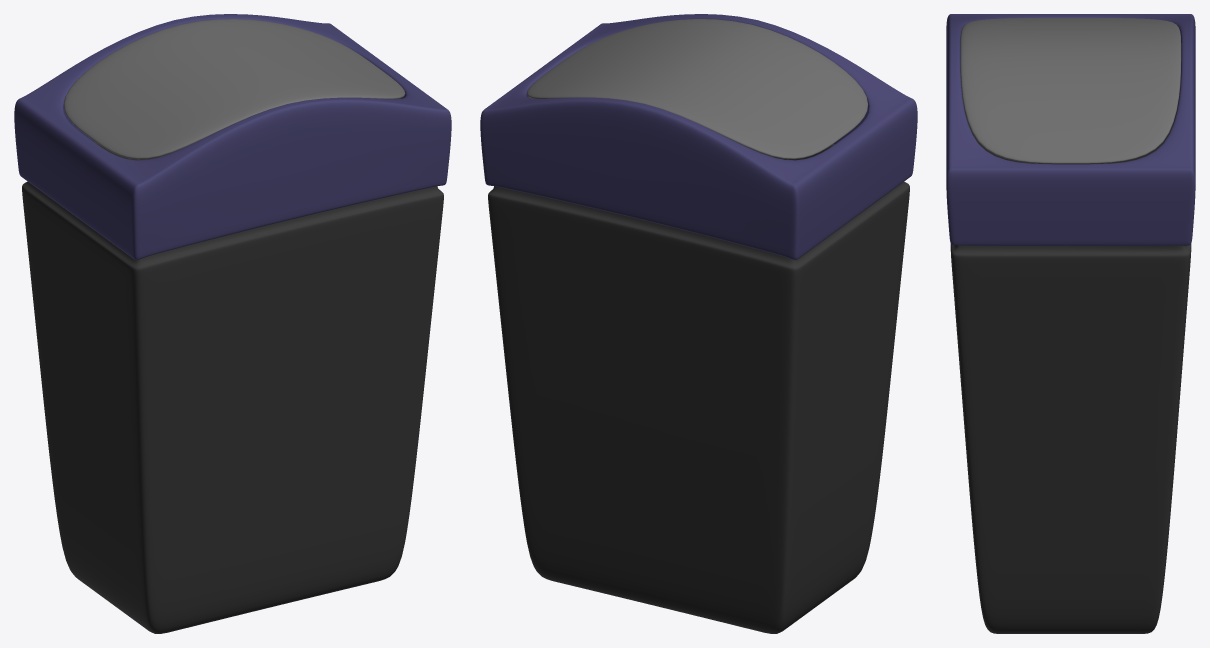
Rendered from Trash_Bin.fbx.
3 views of the same model, side by side, from view 1: azimuth 30°, elevation 25°; view 2: azimuth 150°, elevation 25°; view 3: azimuth 270°, elevation 25° (orthographic). The views are drawn at different scales.
Visible parts, largest first — view 1: Basket, Cap, Lid; view 2: Basket, Cap, Lid; view 3: Basket, Lid, Cap.
Part boxes in pixels (x1=…): Basket: x1=22, y1=141, x2=443, y2=633; Cap: x1=14, y1=14, x2=451, y2=259; Lid: x1=64, y1=19, x2=405, y2=159; Basket: x1=488, y1=144, x2=909, y2=633; Cap: x1=480, y1=14, x2=917, y2=259; Lid: x1=527, y1=19, x2=868, y2=159; Basket: x1=950, y1=81, x2=1191, y2=633; Lid: x1=960, y1=18, x2=1181, y2=163; Cap: x1=946, y1=14, x2=1195, y2=245.
Bounding box in the file's own units: 11.62 × 18.07 × 7.71.
